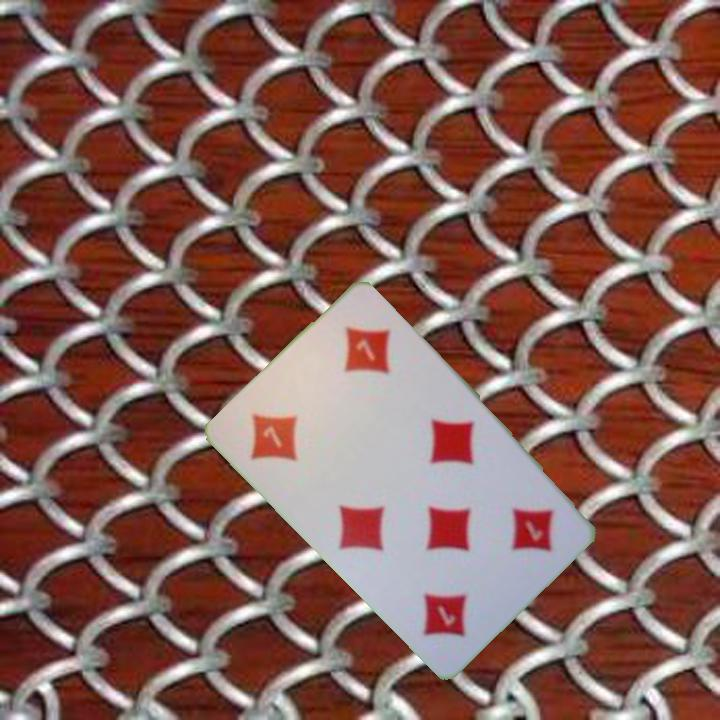d_7.png: (222, 363, 352, 492), (455, 466, 584, 595)
